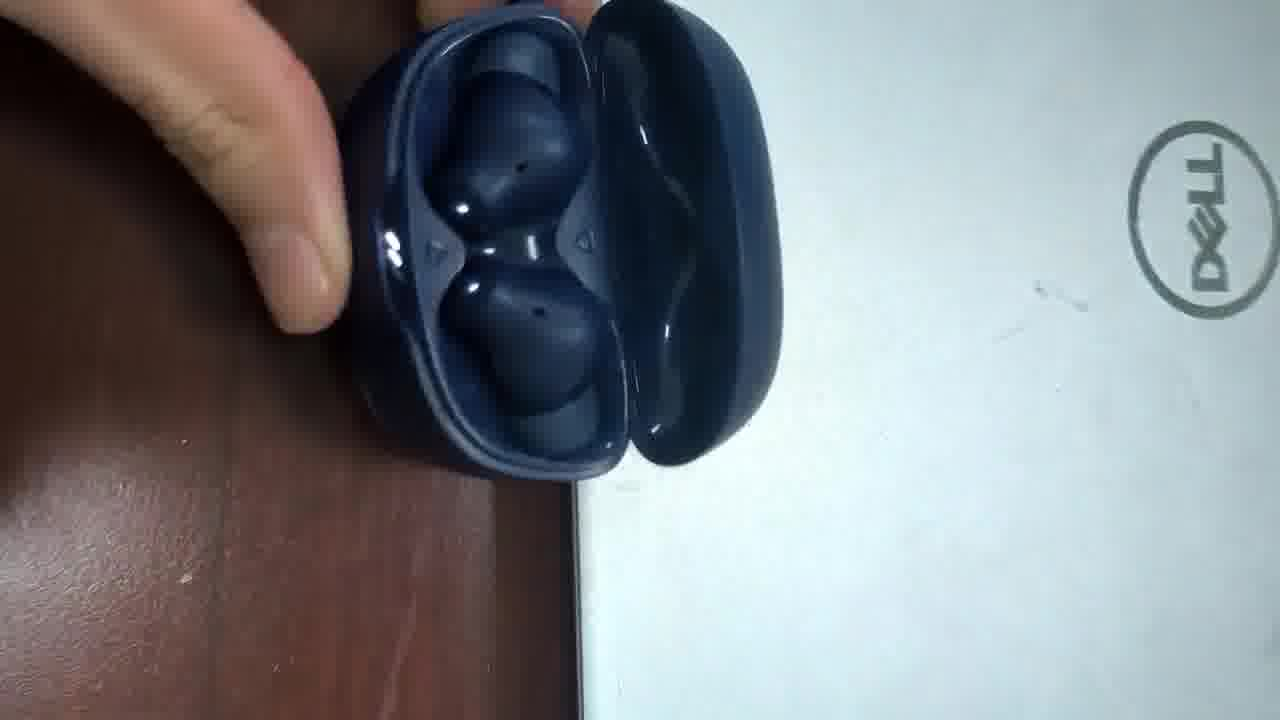Case: (339, 0, 782, 480)
Earbud: (427, 32, 601, 454)
